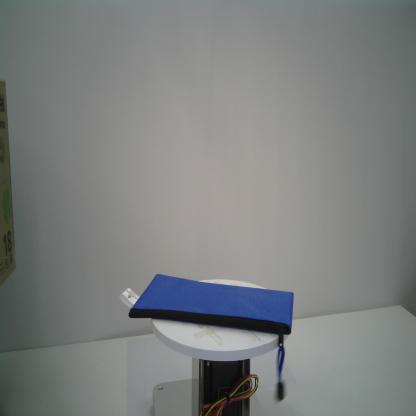Stationery: (117, 271, 294, 405)
